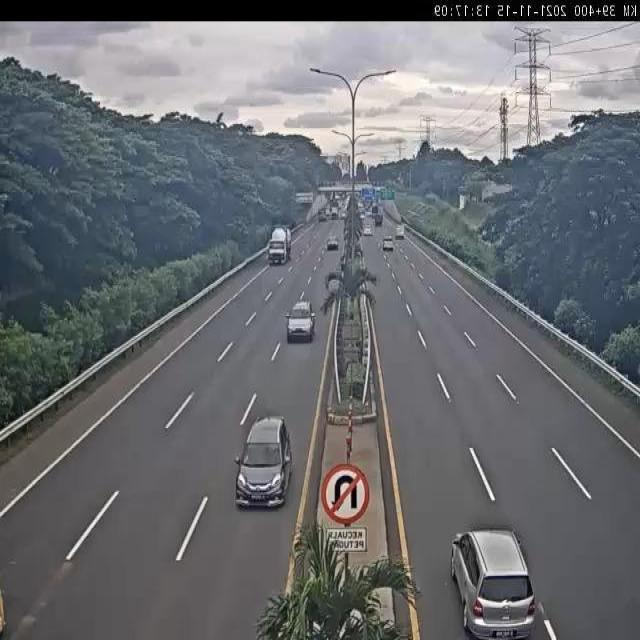Car: (450, 528, 536, 640), (234, 416, 294, 511), (286, 301, 316, 343), (327, 237, 340, 249), (363, 225, 373, 235)
Truck: (268, 227, 291, 265), (396, 223, 405, 240), (375, 214, 383, 226)
